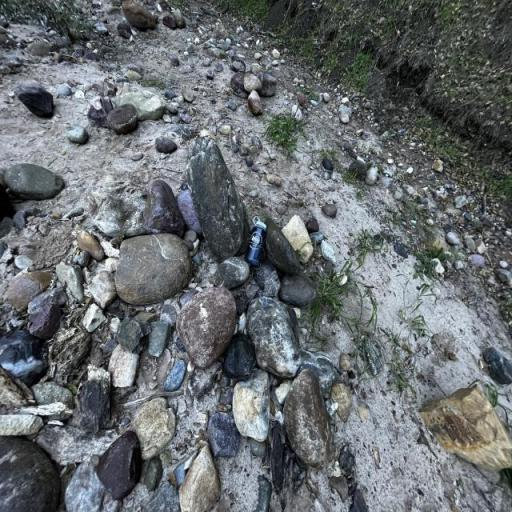bottle: (244, 216, 266, 267)
